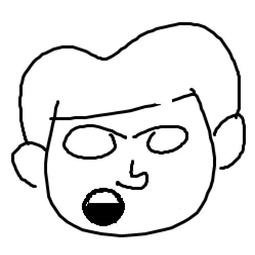ear: (202, 109, 252, 174), (9, 141, 53, 192)
empty_eye: (57, 121, 124, 161), (133, 121, 193, 155)
nose: (111, 154, 152, 192)
open_mouth: (79, 183, 129, 233)
